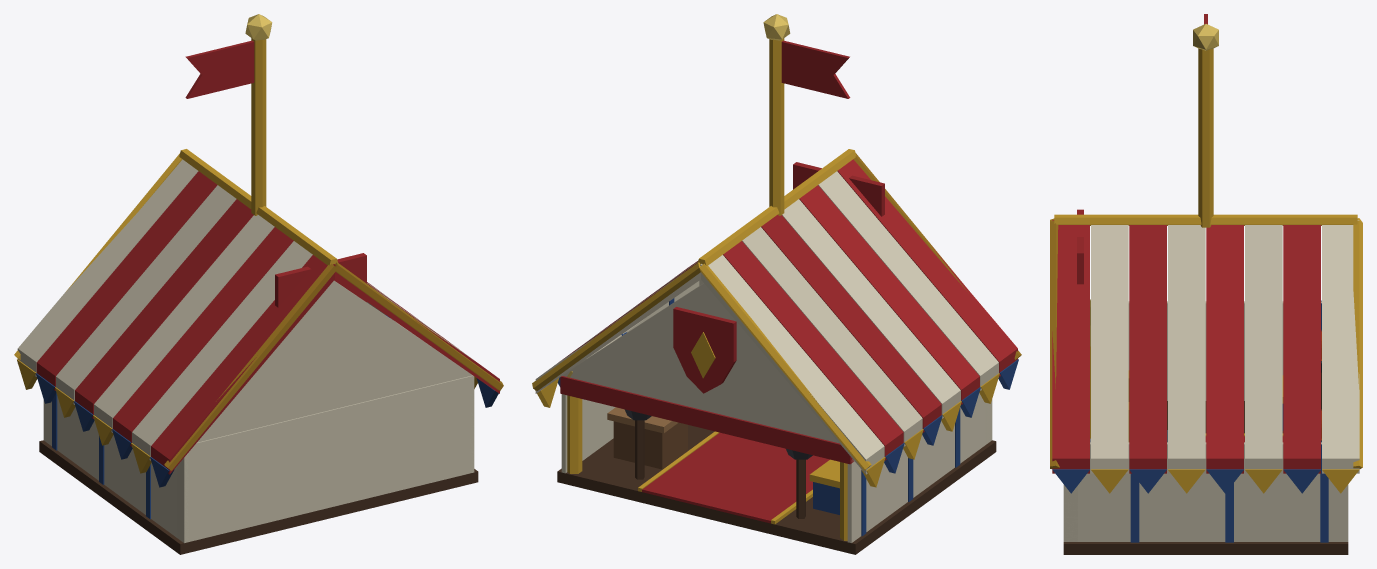
Rendered from Decor_KnightCastle_Pavilion.fbx.
The picture shows the model from 3 angles, left to right: view 1: azimuth 30°, elevation 25°; view 2: azimuth 150°, elevation 25°; view 3: azimuth 270°, elevation 25°; orthographic projection.
Parts seen in each view (by area): view 1: Pavilion_Body; view 2: Pavilion_Body; view 3: Pavilion_Body.
Part boxes in pixels (x1,y1,x2,y2): Pavilion_Body: [14, 14, 503, 554]; Pavilion_Body: [532, 14, 1021, 554]; Pavilion_Body: [1050, 14, 1362, 554].
Size of the model in its own units: 16.39 by 21 by 13.
